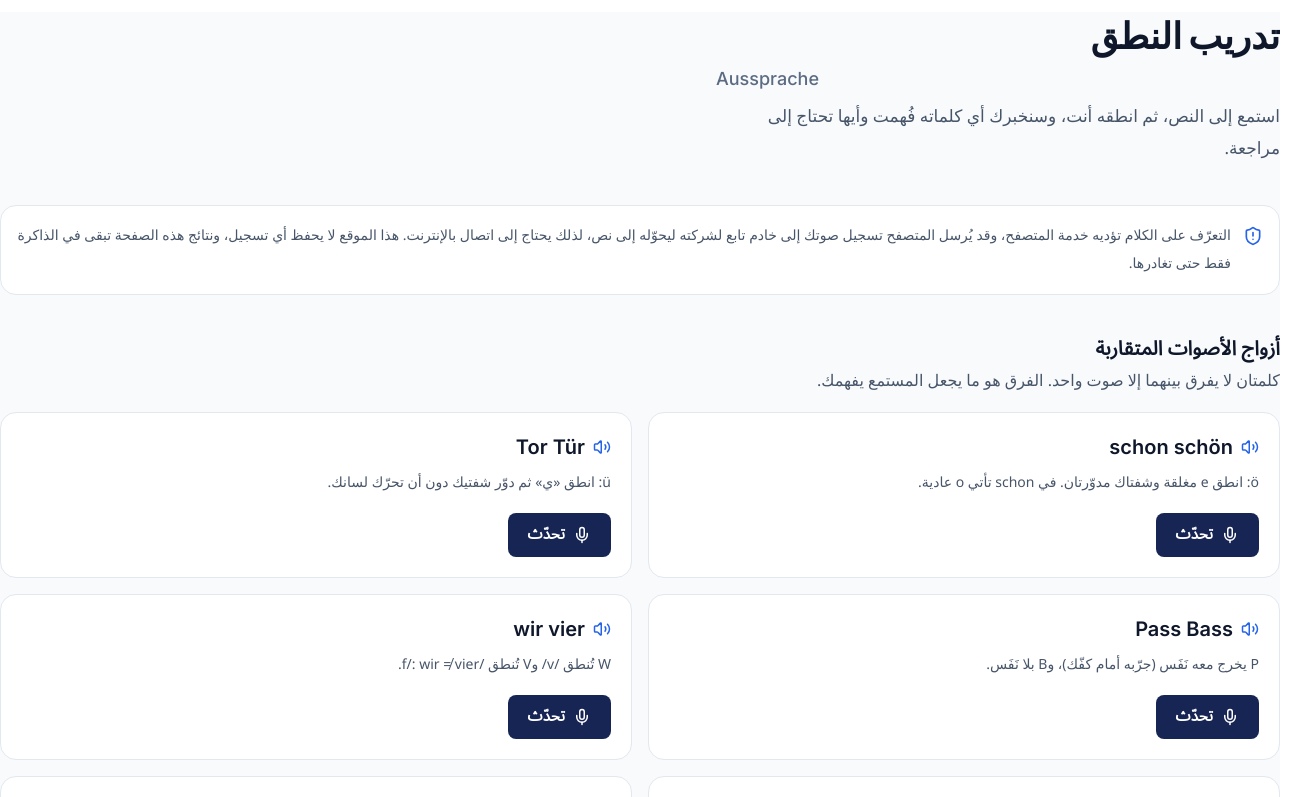
it: PronunciationPage › lets only one card listen at a time and stops on request
What coordinates should you click on to do the following:
click the button "تحدّث" below "W تُنطق /v/ وV تُنطق /f/: wir ≠ vier."
I would click on:
 (559, 717)
Its box is [508,695,611,739].
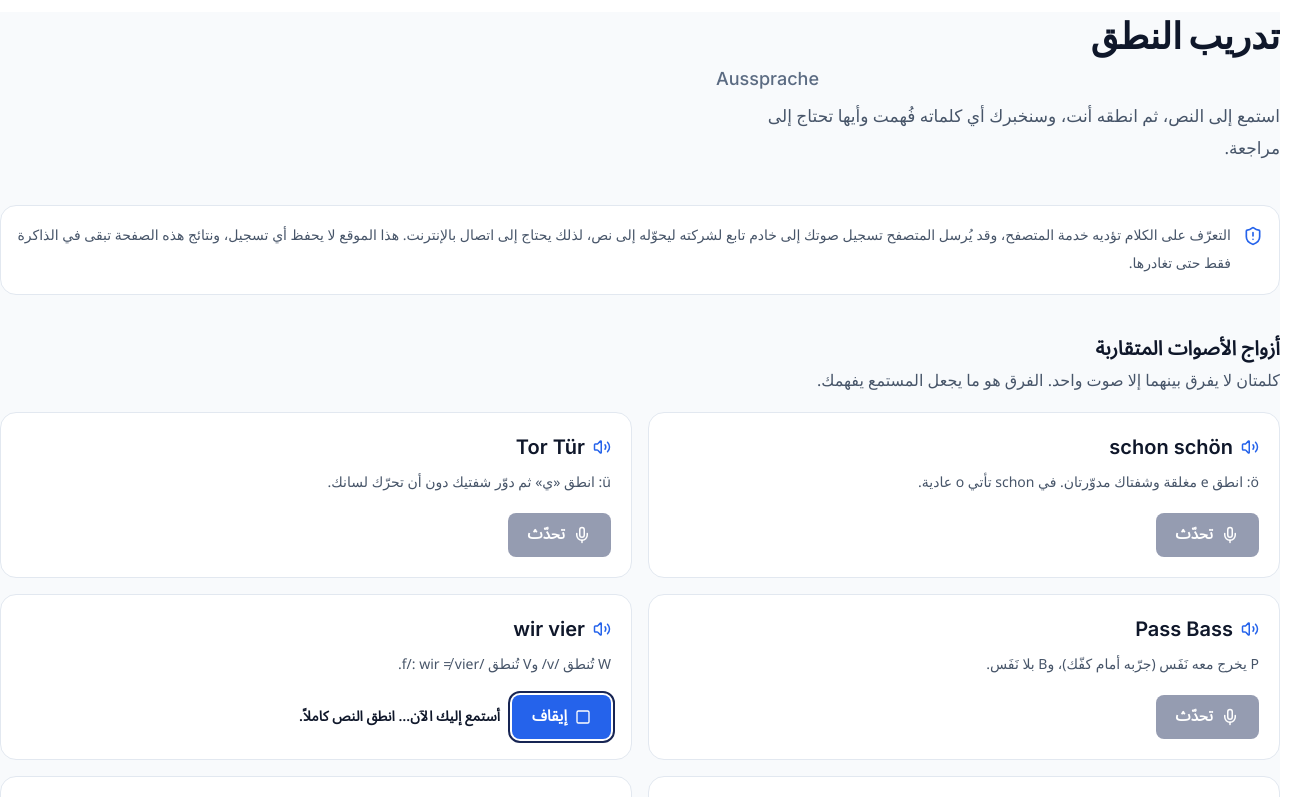
Expected: the message shows "أستمع إليك الآن", [299,702,500,731]
Expected: the 3rd button "تحدّث" is disabled, [1156,695,1259,739]
What coordinates should you click on to do the following:
click the button "إيقاف"
I would click on:
 (562, 717)
Its box is [512,695,611,739].
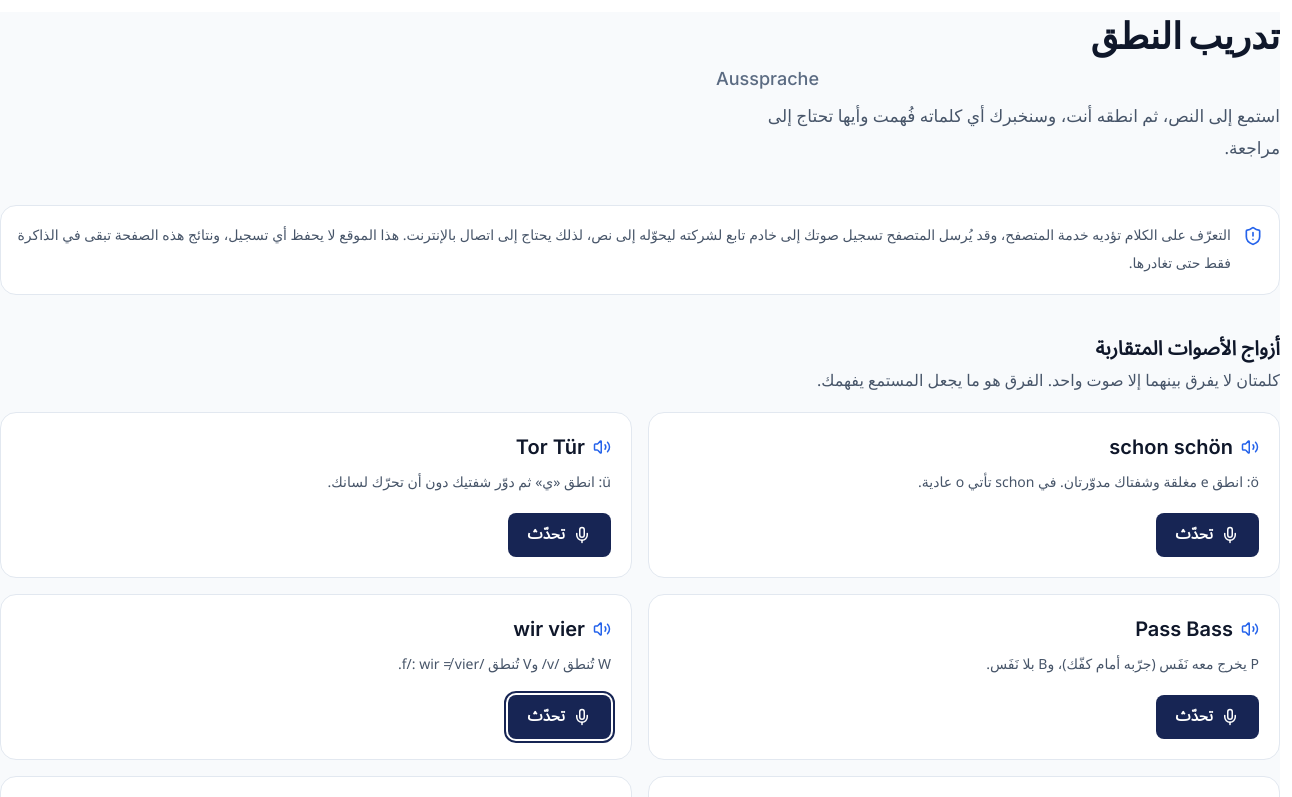
Expected: the 4th button "تحدّث" is enabled, [1156,695,1259,739]
